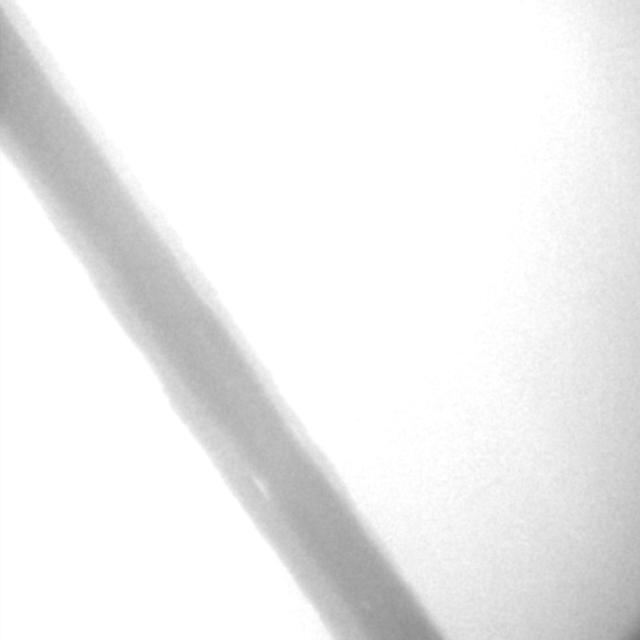air hole: (253, 477, 271, 503)
